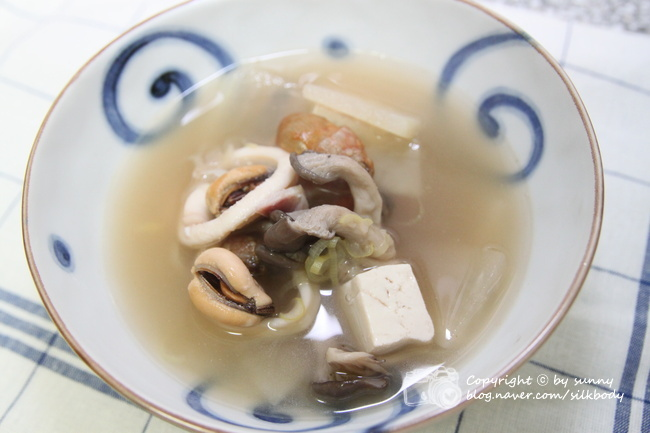mugug: (102, 49, 529, 415)
